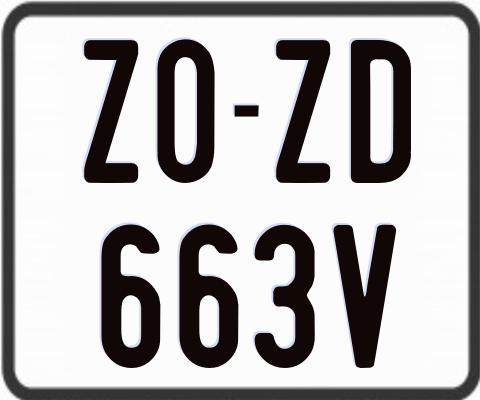0: (157, 37, 218, 187)
3: (252, 224, 312, 369)
6: (98, 222, 157, 369), (178, 221, 238, 365)
D: (351, 37, 415, 183)
V: (330, 222, 394, 370)
Z: (274, 40, 332, 189), (84, 37, 140, 183)
